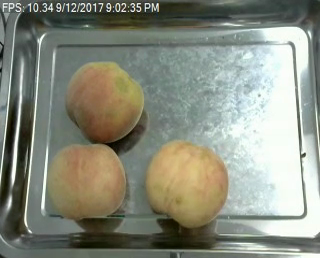Peach: (145, 139, 228, 229), (66, 61, 145, 144), (49, 143, 126, 221)
